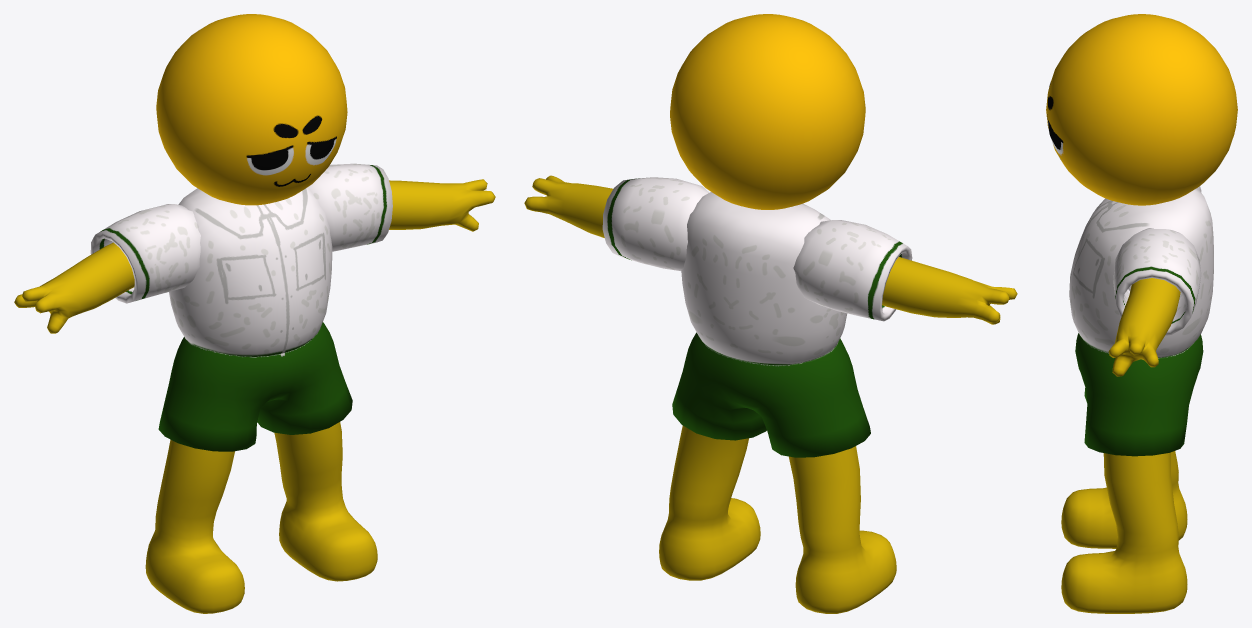
The model's file is player2.fbx.
The picture shows the model from 3 angles, left to right: view 1: azimuth 30°, elevation 25°; view 2: azimuth 150°, elevation 25°; view 3: azimuth 270°, elevation 25°; orthographic projection. The views are drawn at different scales.
Parts seen in each view (by area): view 1: CLOTHES.002_ch2 CLOTHES_0, BODY.002_ch2 BODY_0, HEAD.002_ch2 HEAD_0; view 2: CLOTHES.002_ch2 CLOTHES_0, BODY.002_ch2 BODY_0, HEAD.002_ch2 HEAD_0; view 3: HEAD.002_ch2 HEAD_0, CLOTHES.002_ch2 CLOTHES_0, BODY.002_ch2 BODY_0.
Boxes of the visible parts, left/top/right/bottom form: CLOTHES.002_ch2 CLOTHES_0: left=90, top=163, right=392, bottom=451; BODY.002_ch2 BODY_0: left=14, top=179, right=495, bottom=613; HEAD.002_ch2 HEAD_0: left=156, top=14, right=347, bottom=205; CLOTHES.002_ch2 CLOTHES_0: left=602, top=177, right=912, bottom=457; BODY.002_ch2 BODY_0: left=524, top=175, right=1017, bottom=613; HEAD.002_ch2 HEAD_0: left=670, top=14, right=865, bottom=209; HEAD.002_ch2 HEAD_0: left=1046, top=14, right=1237, bottom=205; CLOTHES.002_ch2 CLOTHES_0: left=1069, top=186, right=1213, bottom=456; BODY.002_ch2 BODY_0: left=1061, top=278, right=1187, bottom=613.
Size of the model in its own units: 1.48 by 1.67 by 0.5292.
3 materials, 3 textured.
